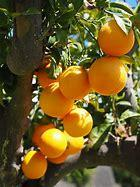orange: (24, 67, 93, 124), (24, 125, 93, 157), (100, 7, 140, 43), (90, 52, 126, 91), (58, 66, 96, 99), (18, 154, 55, 178), (69, 114, 100, 139)
